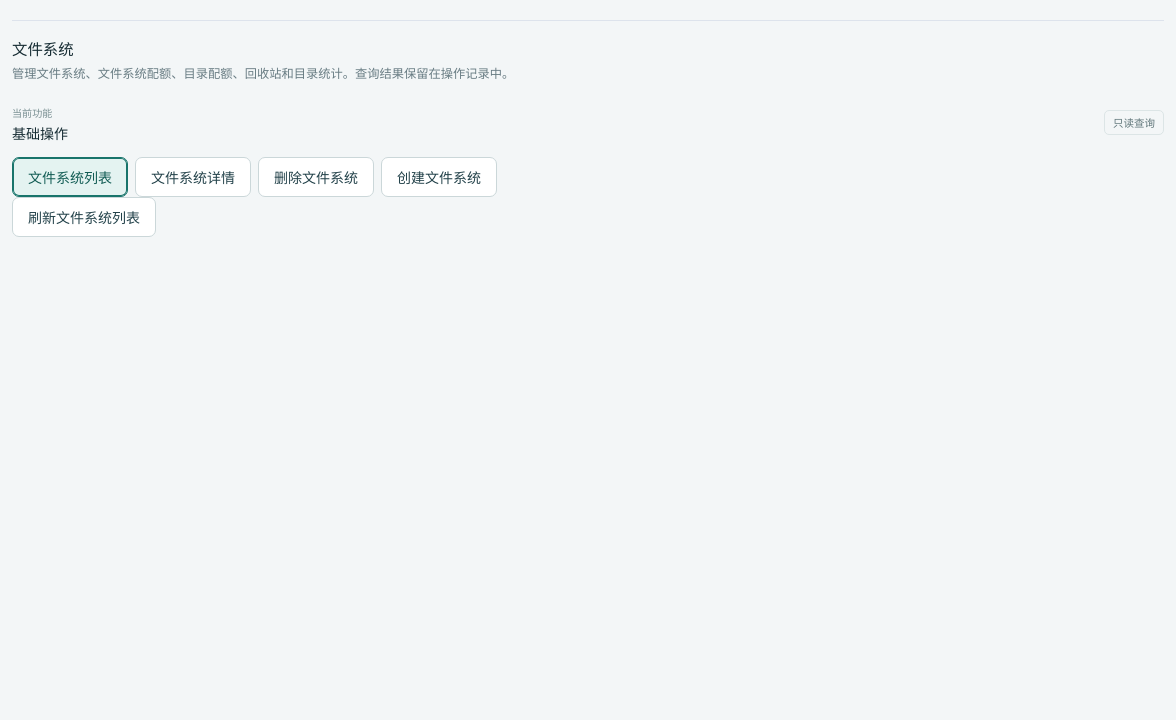
Test: switching away ignores an older list response
The width and height of the screenshot is (1176, 720).
Click the button "文件系统详情". click: (193, 177)
box: [135,157,251,197]
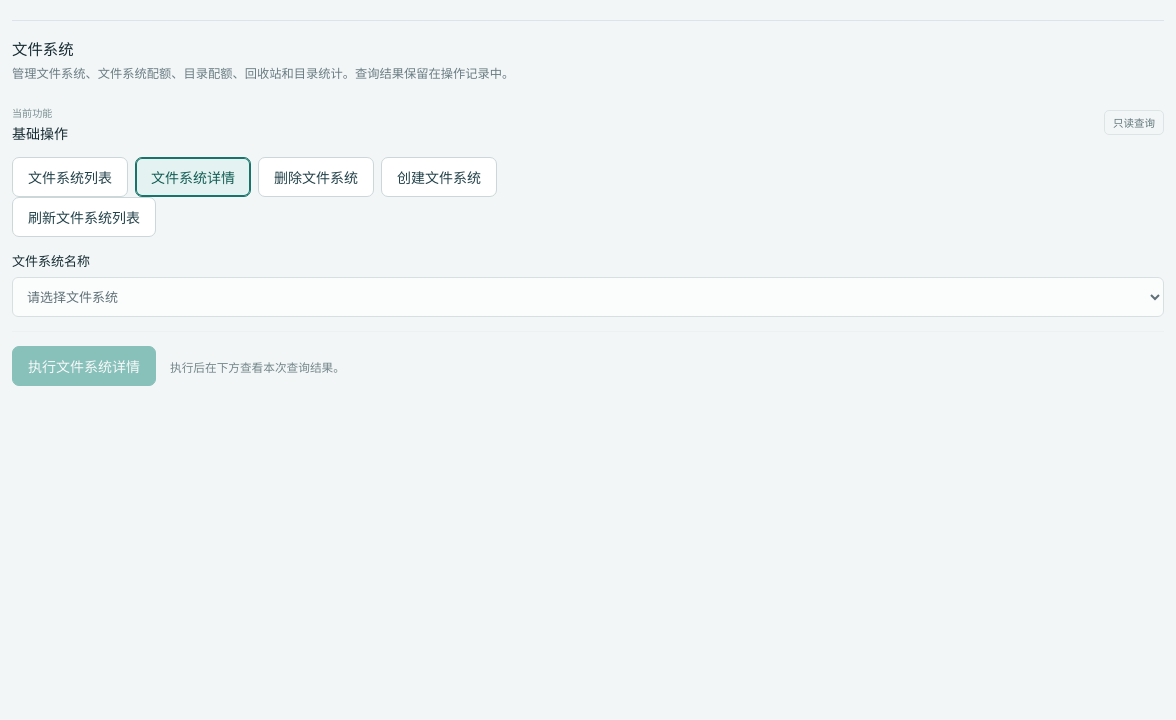
Click the button "创建文件系统". click: (439, 177)
box: [381,157,497,197]
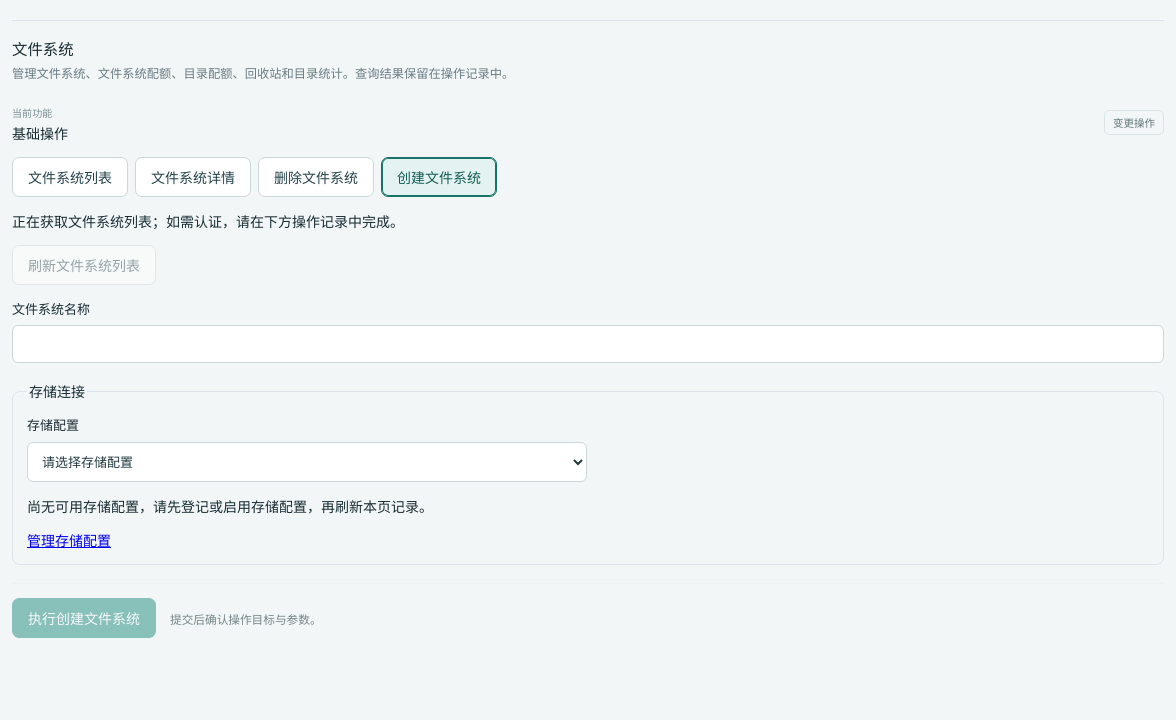
Now the field labelled "文件系统名称" is shown, box [12,325,1164,363]
